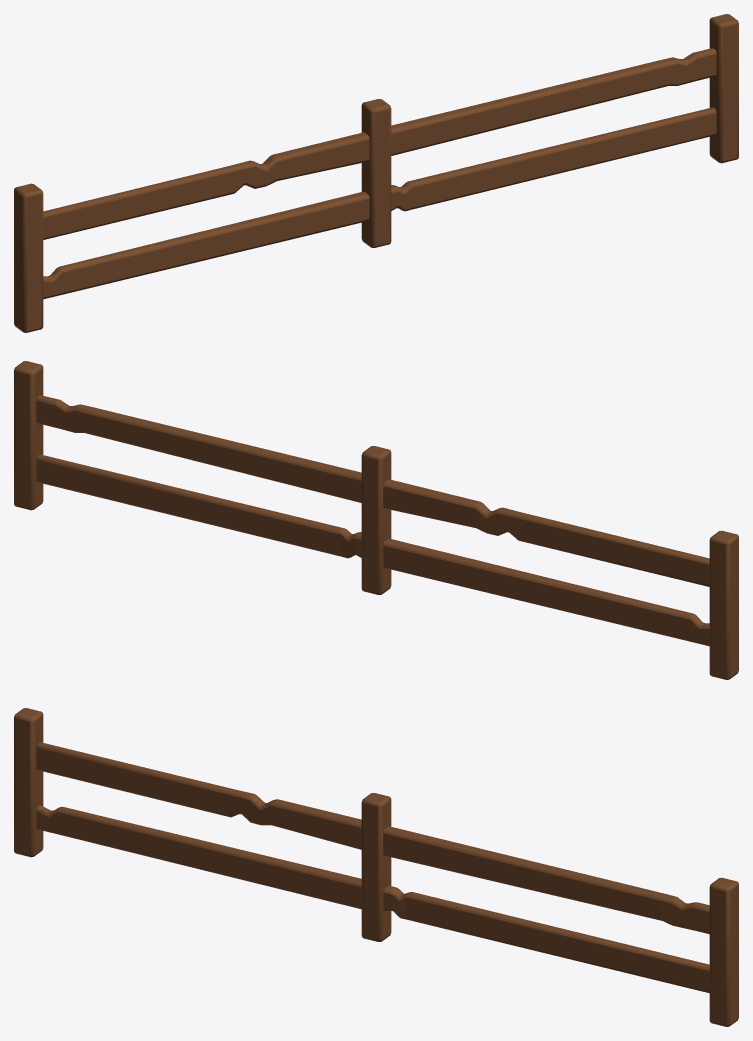
File: prop_fence_01.glb
3 views of the same model, one above another, from view 1: azimuth 30°, elevation 25°; view 2: azimuth 150°, elevation 25°; view 3: azimuth 330°, elevation 25° (orthographic).
Visible parts, largest first — view 1: prop_fence_01; view 2: prop_fence_01; view 3: prop_fence_01.
Part boxes in pixels (x1=…): prop_fence_01: x1=14, y1=14, x2=738, y2=332; prop_fence_01: x1=14, y1=361, x2=738, y2=679; prop_fence_01: x1=14, y1=708, x2=738, y2=1026.
Bounding box in the file's own units: 5.89 × 1.1 × 0.1655.
